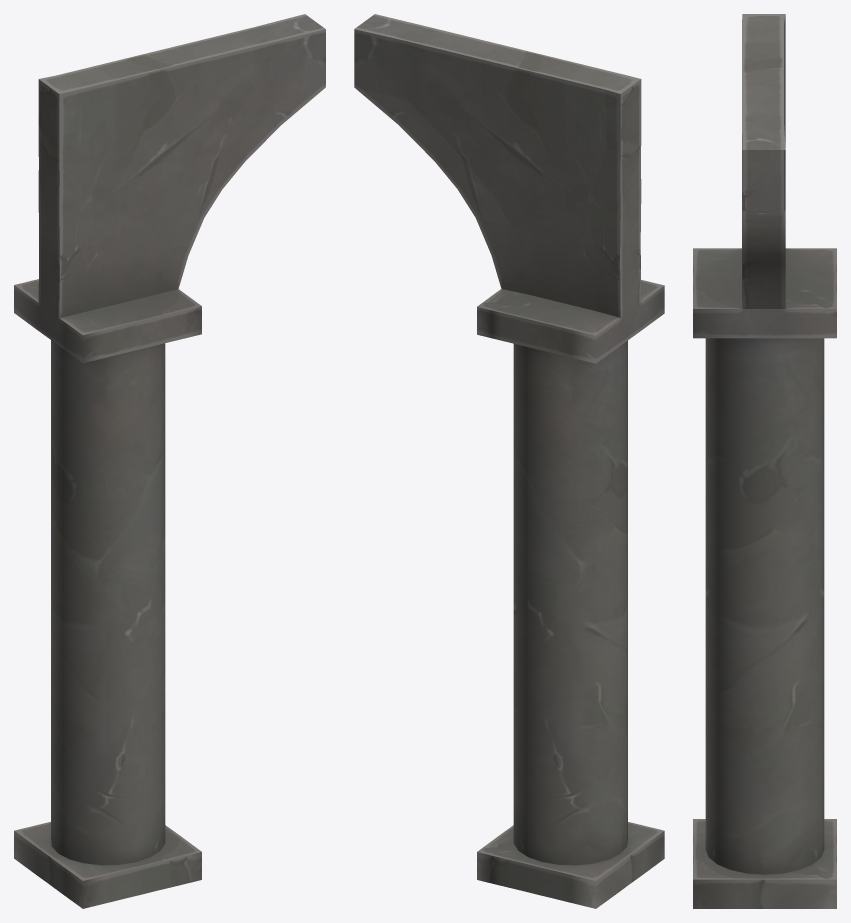
The model's file is Left_ArchPillar.fbx.
The picture shows the model from 3 angles, left to right: view 1: azimuth 30°, elevation 25°; view 2: azimuth 150°, elevation 25°; view 3: azimuth 270°, elevation 25°; orthographic projection. The views are drawn at different scales.
Parts seen in each view (by area): view 1: polySurface6; view 2: polySurface6; view 3: polySurface6.
Boxes of the visible parts, x1=… form: polySurface6: x1=14, y1=14, x2=325, y2=908; polySurface6: x1=354, y1=14, x2=664, y2=908; polySurface6: x1=693, y1=14, x2=836, y2=908.
Size of the model in its own units: 4.48 by 12.79 by 2.
1 material, 1 textured.
